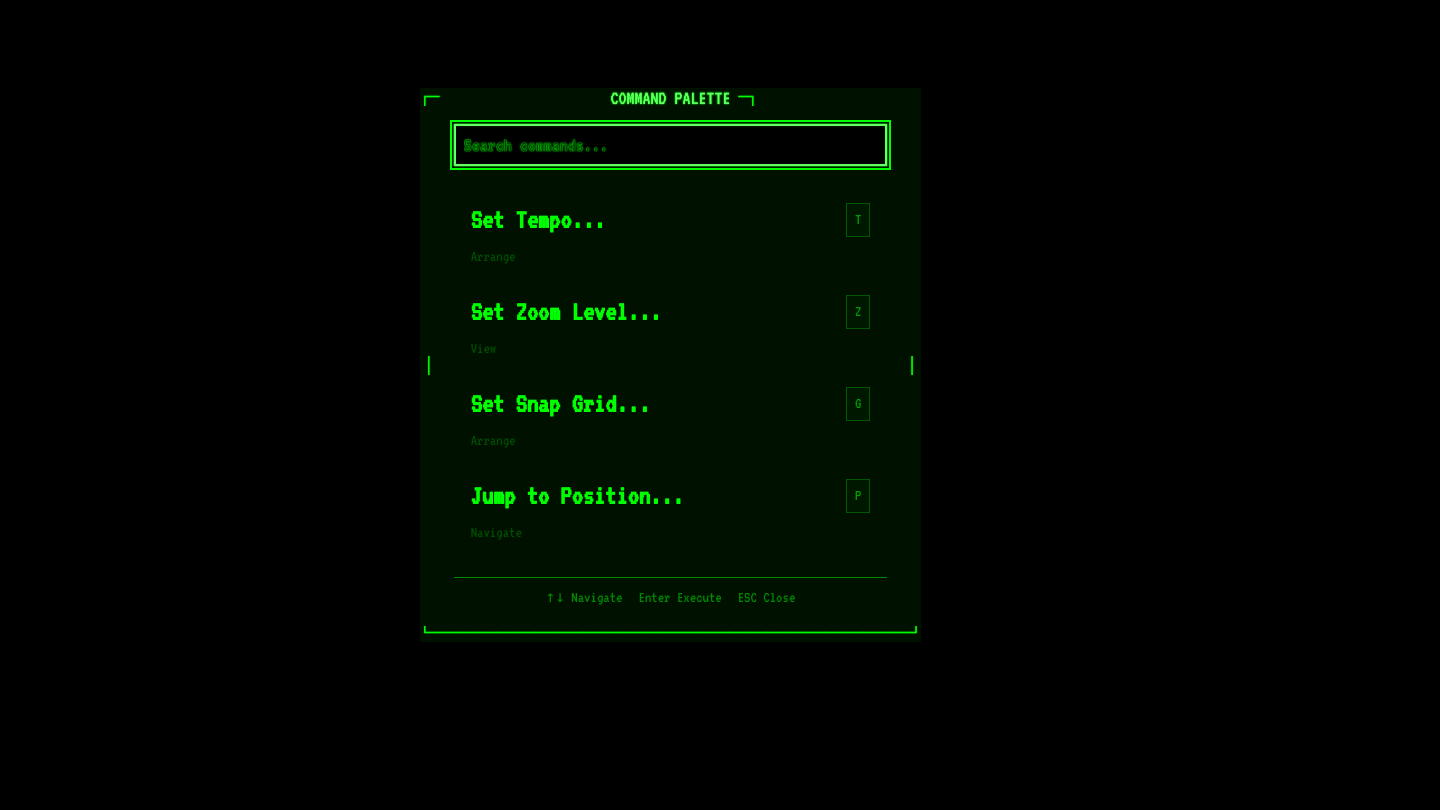
Test: CommandPalette › should filter commands by search query
The width and height of the screenshot is (1440, 810).
Type "zoom" into the field with placeholder "Search commands..." at (670, 145), box left=454, top=124, right=887, bottom=166
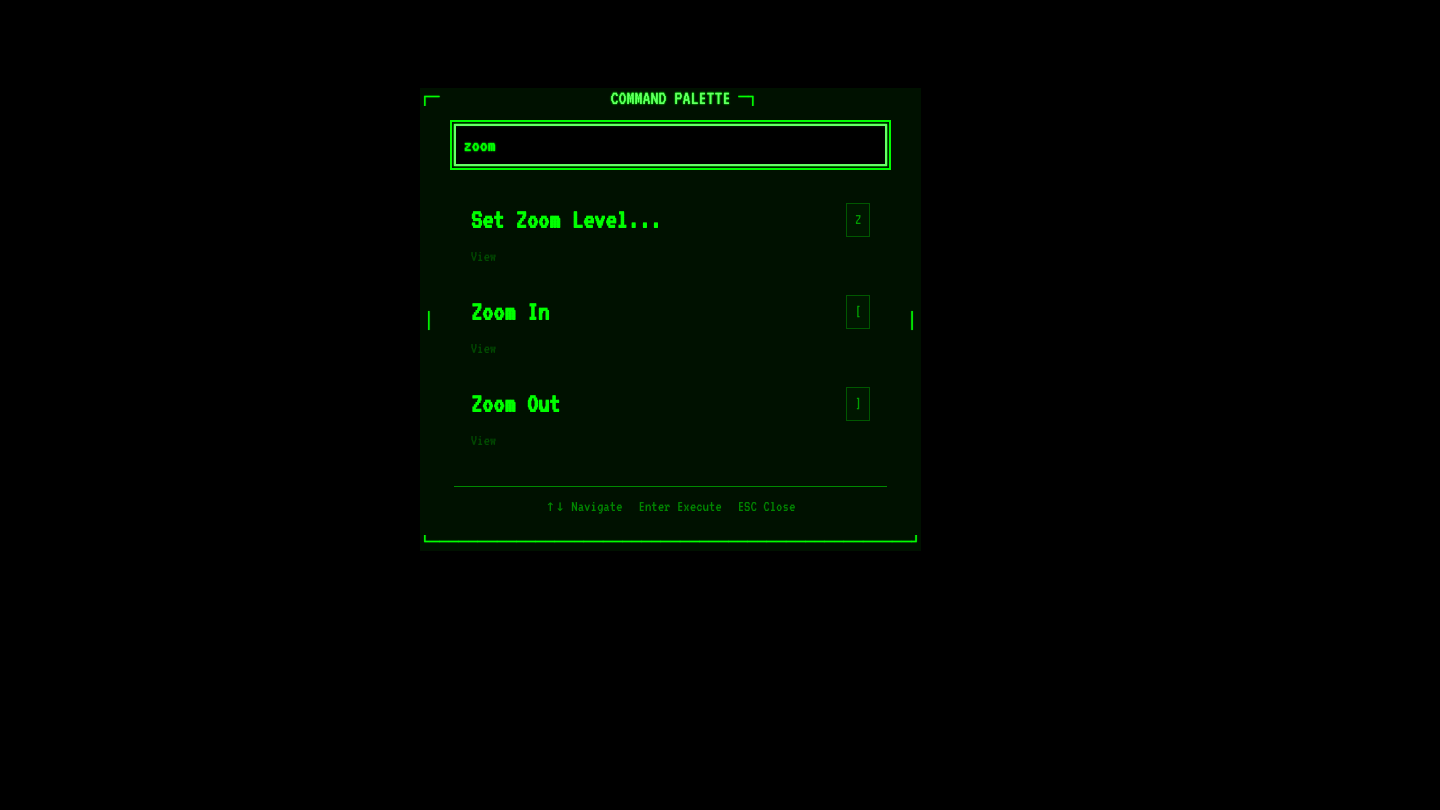
Expected: the text "Set Zoom Level..." is shown, left=471, top=199, right=661, bottom=241
Expected: the text "Zoom In" is shown, left=471, top=291, right=549, bottom=333
Expected: the button "Set Tempo..." is gone
